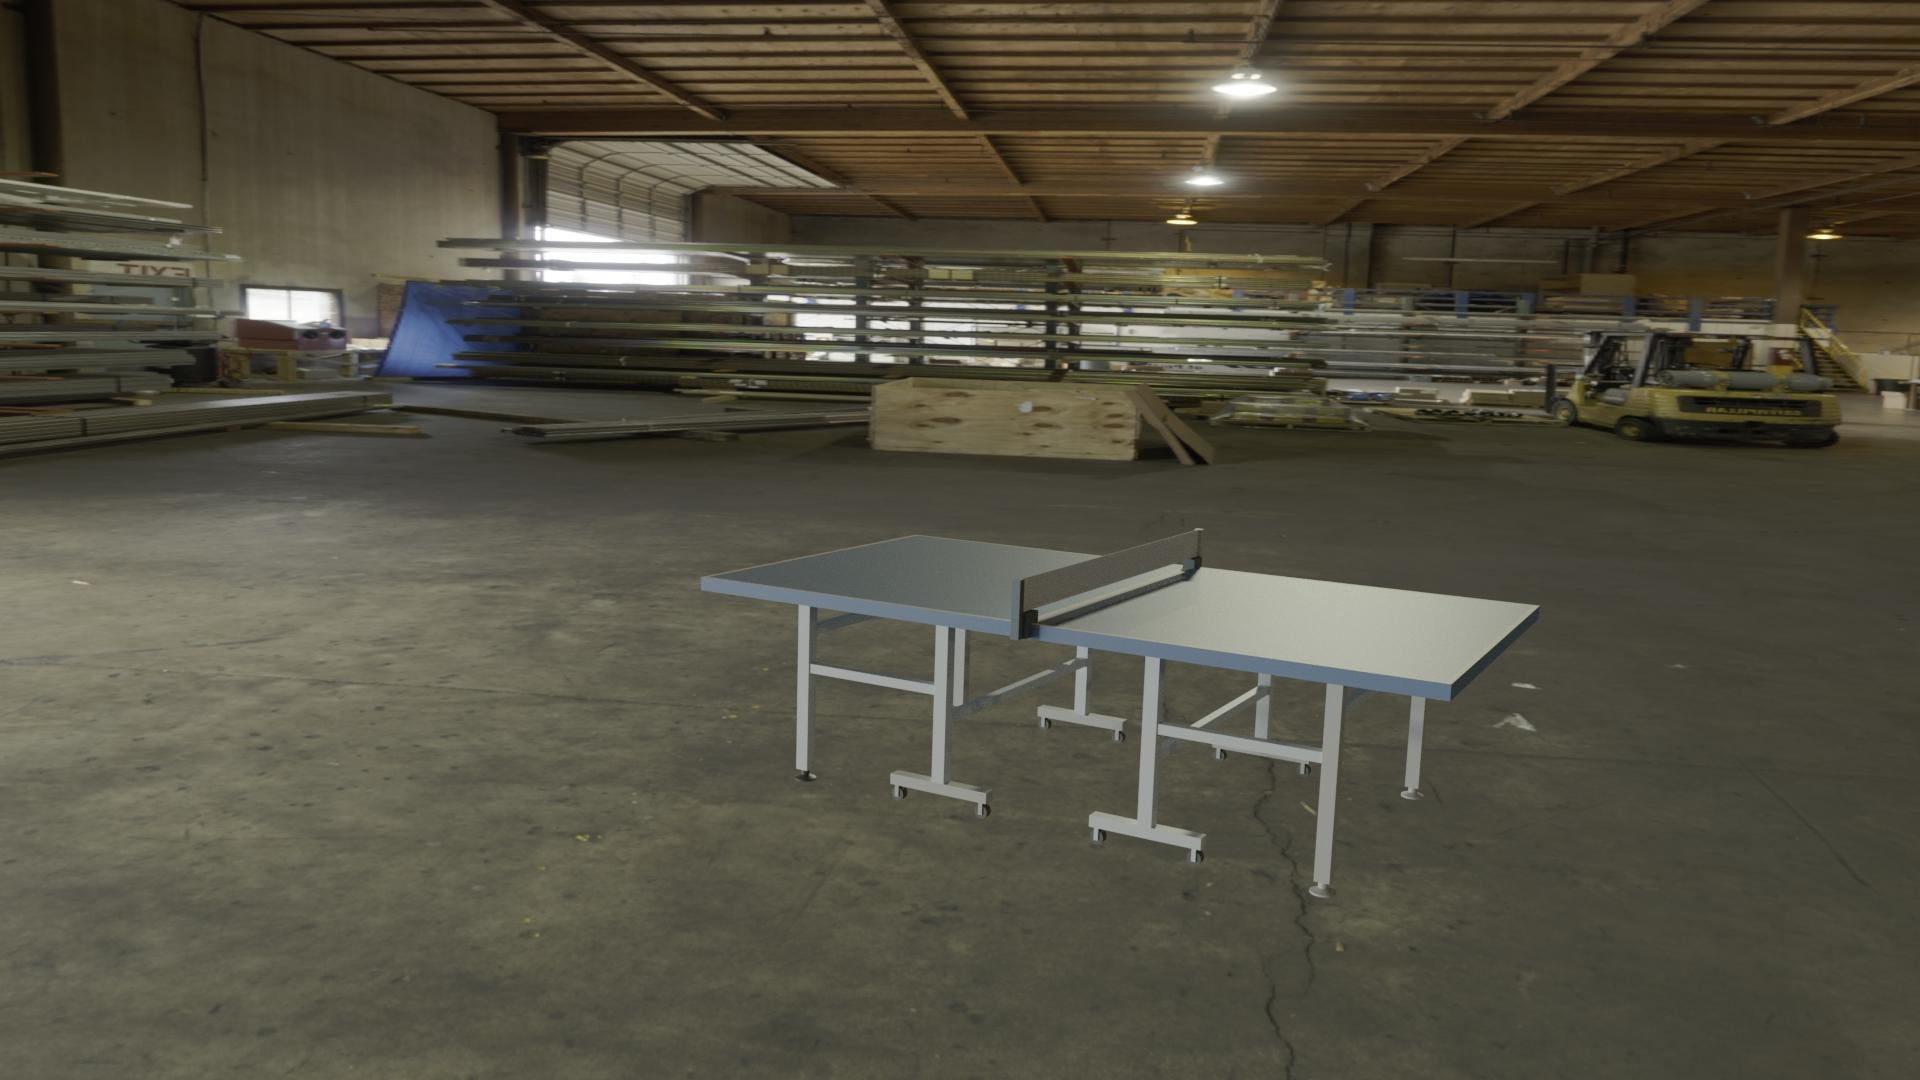table: (709, 536, 1533, 682)
